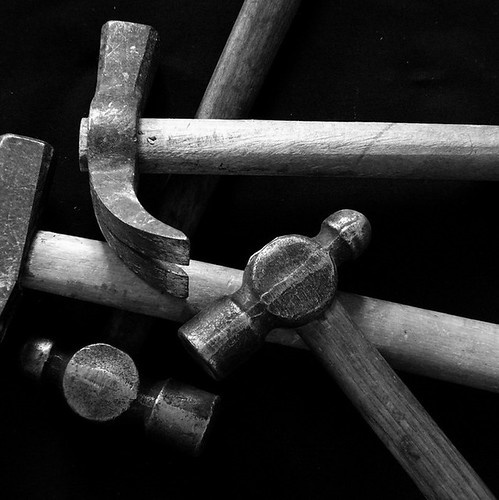hammer: (2, 126, 499, 392), (72, 18, 498, 299), (183, 209, 498, 500), (19, 330, 223, 460)
